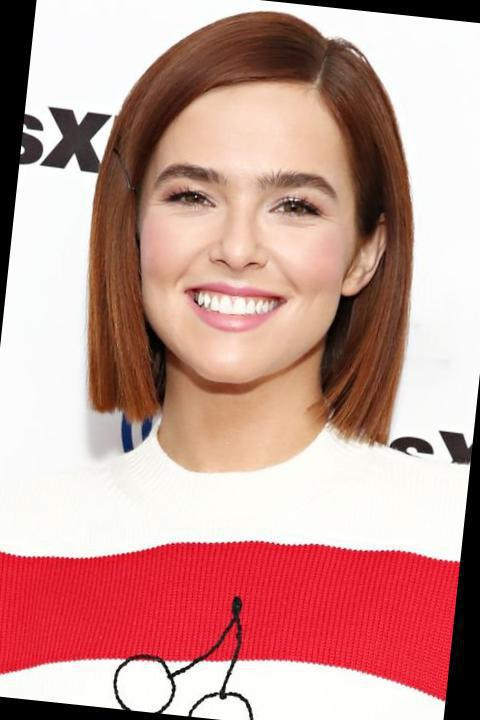Sober: (136, 84, 351, 387)
